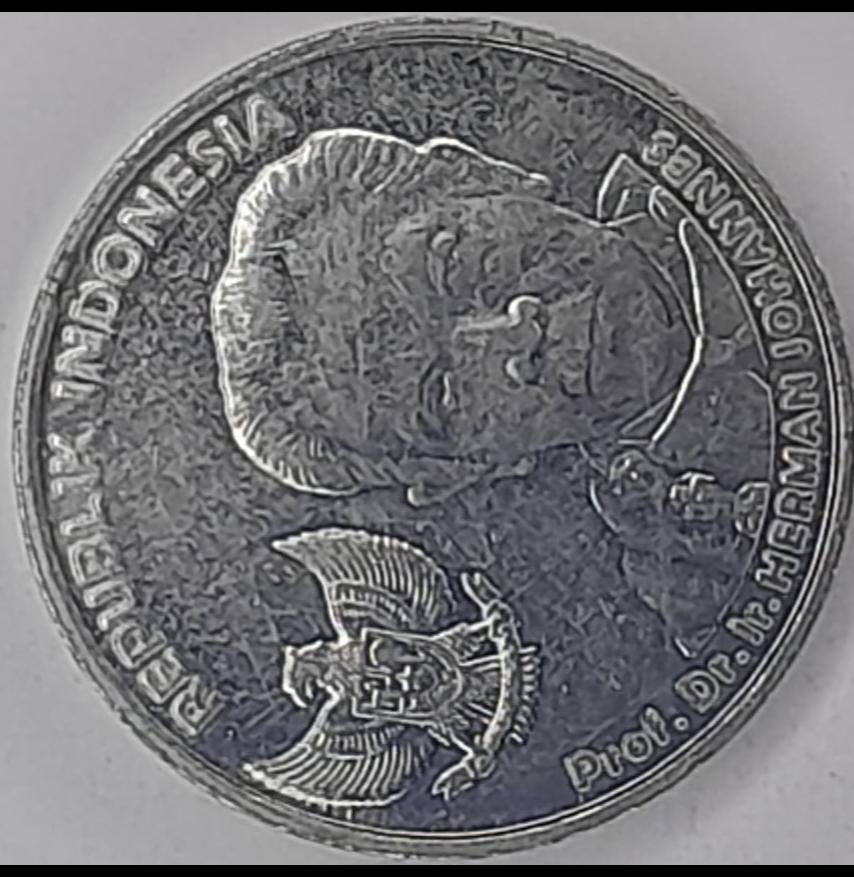coin_100_e2016: (5, 10, 852, 859)
